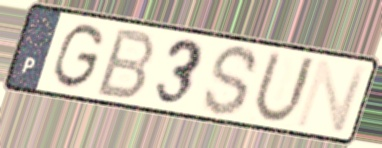3: (151, 35, 211, 109)
B: (92, 25, 159, 102)
G: (50, 21, 107, 93)
N: (292, 57, 372, 134)
S: (200, 43, 262, 119)
U: (248, 47, 319, 127)
